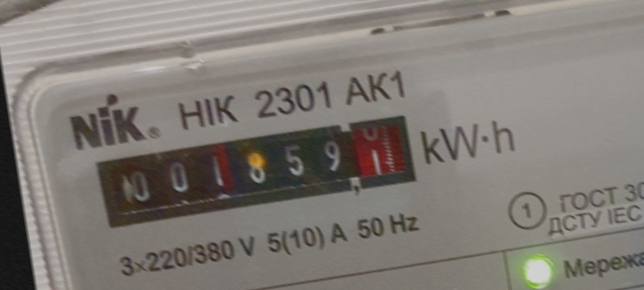0: (128, 167, 152, 205), (166, 158, 191, 194)
1: (209, 152, 226, 189), (368, 145, 385, 177)
5: (282, 140, 307, 179)
8: (244, 148, 269, 186)
9: (321, 137, 345, 173)
screen: (84, 101, 429, 240)
